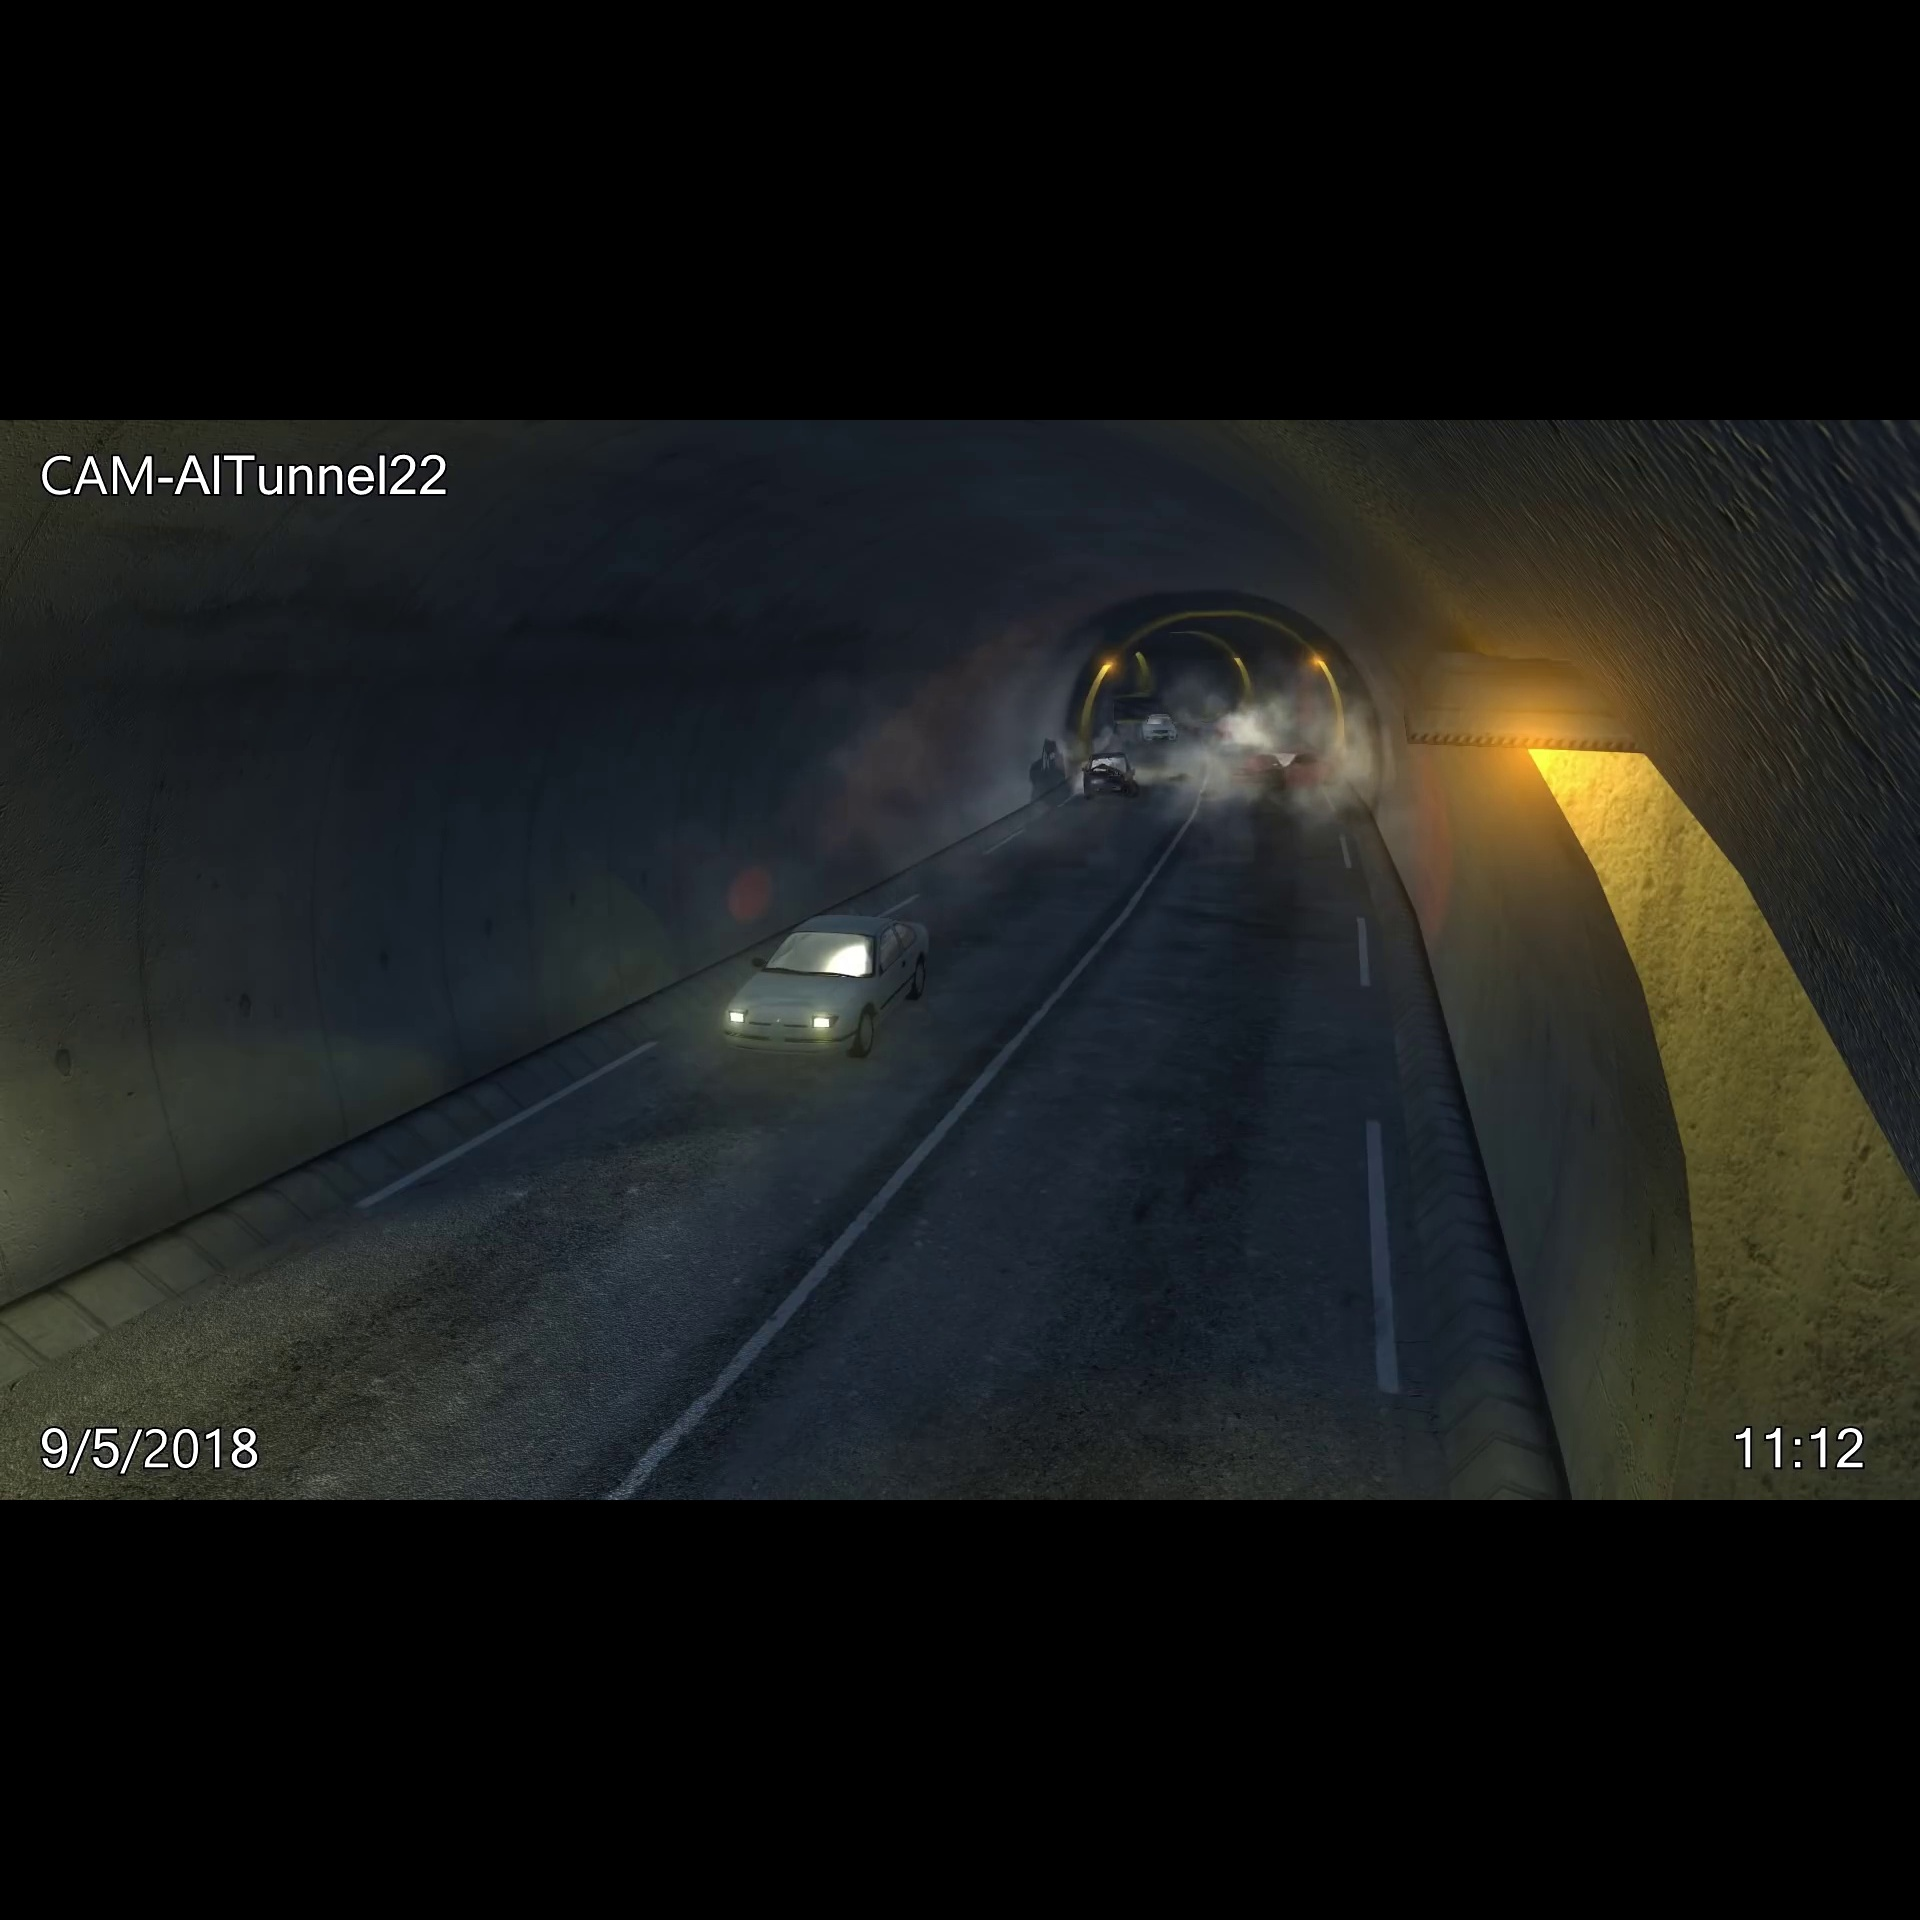vehicle: (710, 905, 946, 1069), (1224, 744, 1347, 798), (1074, 751, 1145, 805), (1138, 710, 1183, 751)
